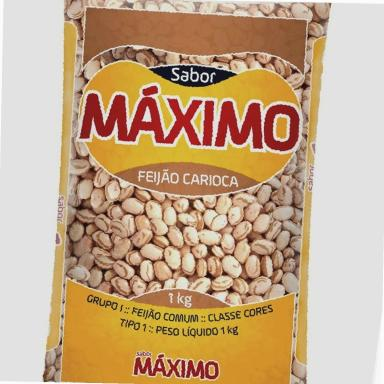beans package: (44, 0, 329, 383)
